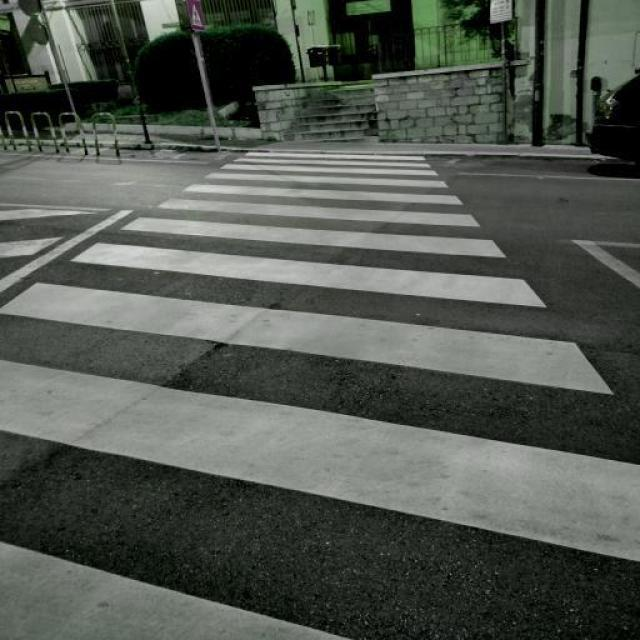crosswalk: (1, 152, 640, 640)
